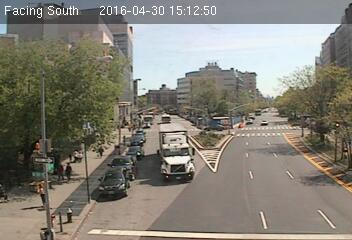neg: (113, 112, 126, 129), (153, 105, 164, 121), (241, 98, 252, 112), (131, 112, 142, 125), (214, 91, 223, 103), (221, 118, 230, 130)
pos: (62, 163, 76, 182), (53, 164, 66, 181), (77, 139, 90, 156), (95, 145, 106, 159), (72, 149, 80, 160)
